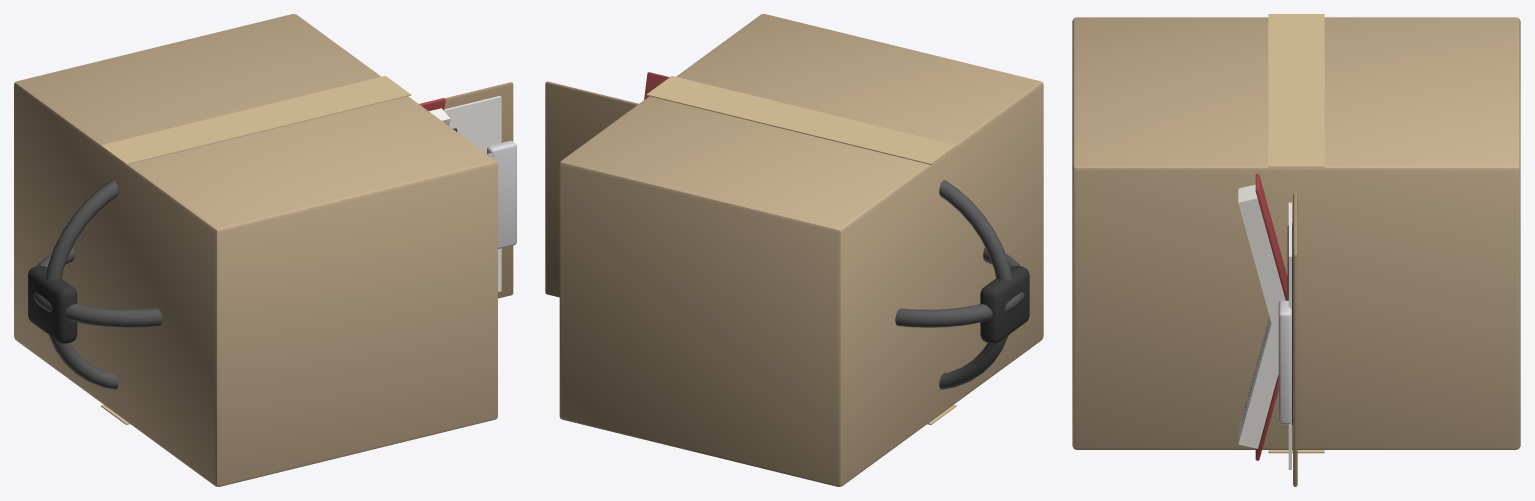
File: HandProps.glb
The picture shows the model from 3 angles, left to right: view 1: azimuth 30°, elevation 25°; view 2: azimuth 150°, elevation 25°; view 3: azimuth 270°, elevation 25°; orthographic projection. The views are drawn at different scales.
Visible parts, largest first — view 1: prop__box, prop__headset, prop__clipboard; view 2: prop__box, prop__headset, prop__clipboard; view 3: prop__box, prop__book, prop__clipboard.
Part boxes in pixels (x1,y1,x2,y2): prop__box: [14, 14, 497, 486]; prop__headset: [28, 180, 162, 389]; prop__clipboard: [444, 82, 516, 298]; prop__box: [559, 14, 1043, 486]; prop__headset: [895, 180, 1029, 389]; prop__clipboard: [545, 81, 638, 297]; prop__box: [1072, 14, 1520, 453]; prop__book: [1238, 173, 1287, 460]; prop__clipboard: [1278, 192, 1297, 486].
Bounding box in the file's own units: 0.534 × 0.2822 × 0.4.
Materials: 16 (4 with a texture image).
